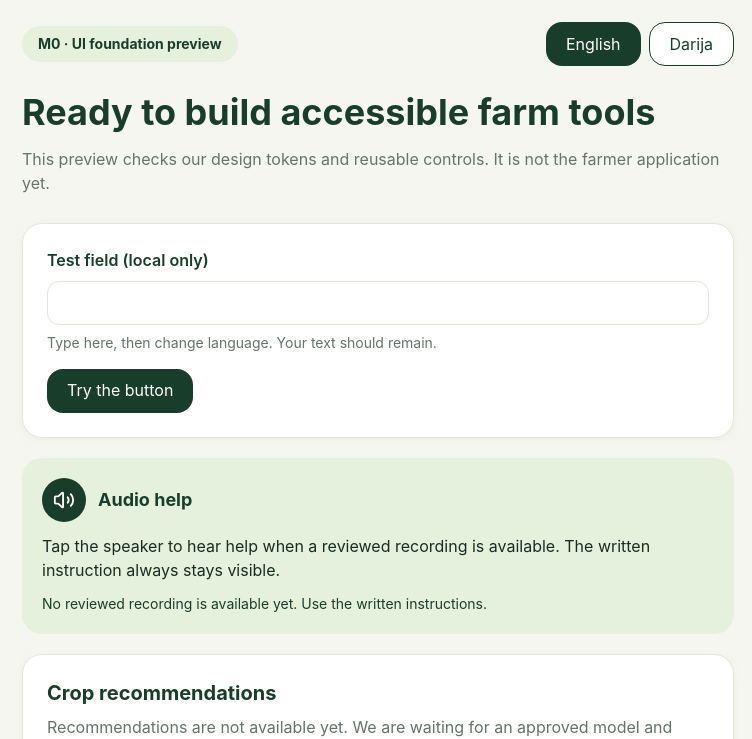
Test: foundation preview › is bilingual, RTL, and preserves the preview draft
The image size is (752, 739).
Type "test input" into the field labelled "Test field (local only)" at (378, 303), box left=47, top=281, right=709, bottom=325
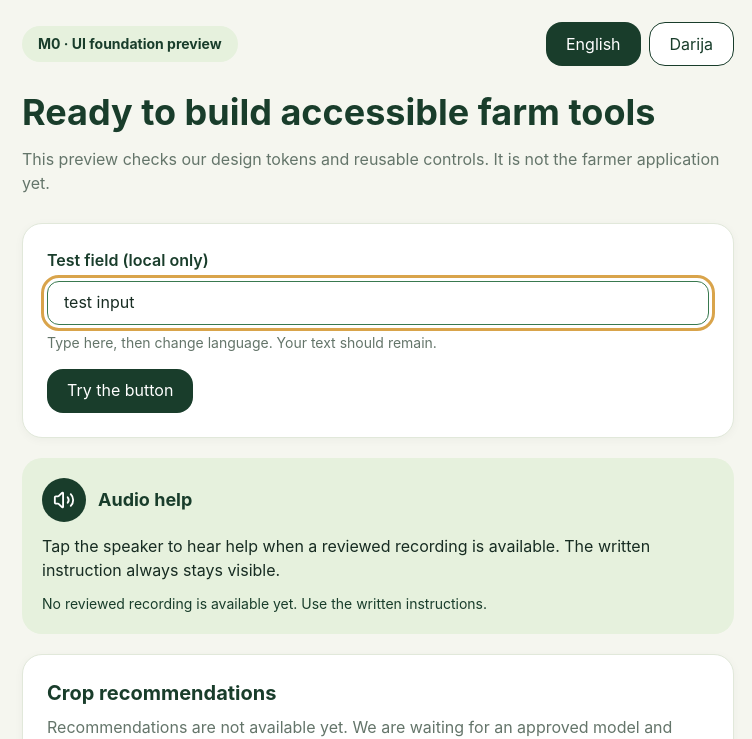
Click the button "Darija" at (691, 44), box left=648, top=22, right=734, bottom=66
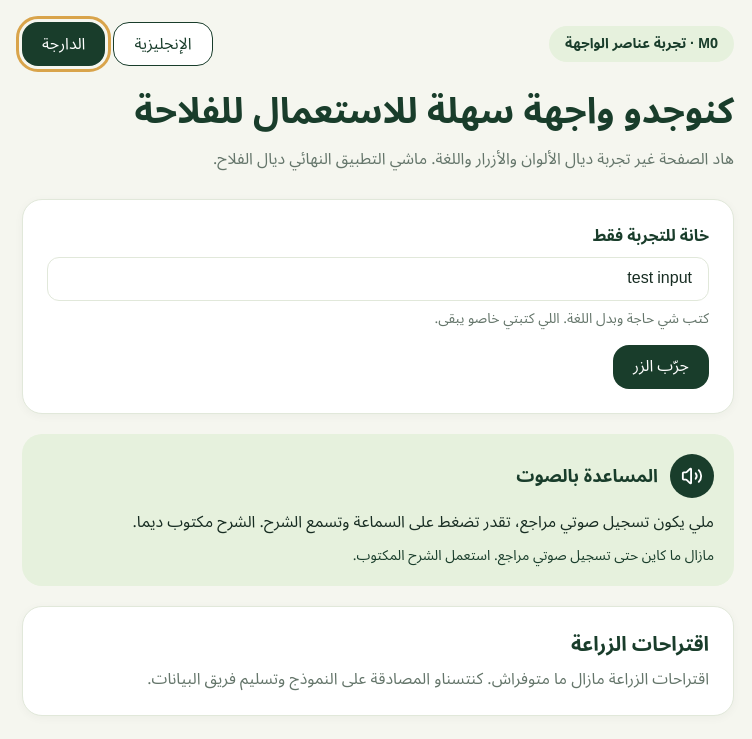
Now the text "اقتراحات الزراعة مازال" is shown, box left=147, top=662, right=709, bottom=696
